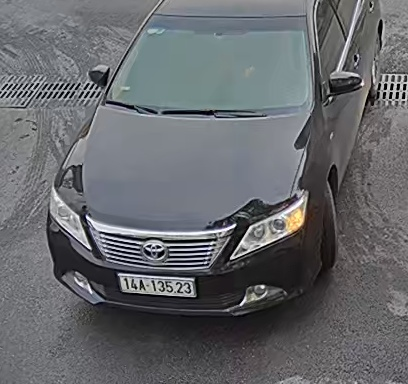vehicle plate: (113, 270, 198, 301)
